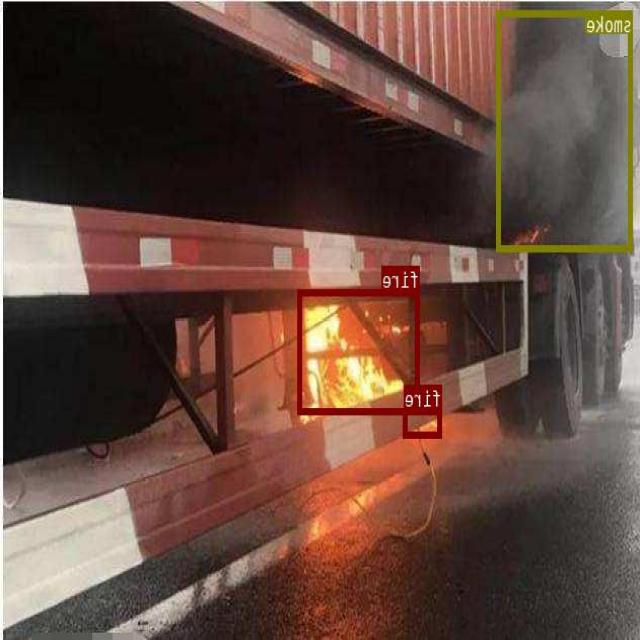fire: (299, 288, 420, 413), (404, 407, 442, 437)
smoke: (498, 9, 634, 250)
